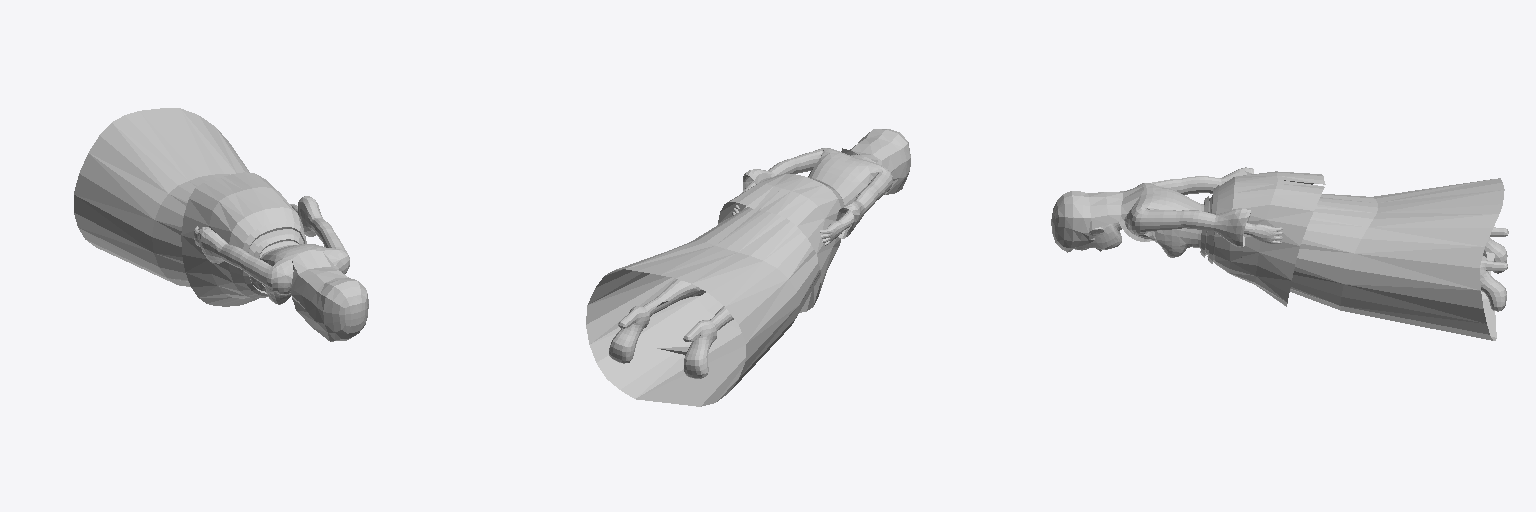
Rendered from ines_posed.obj.
3 views of the same model, side by side, from view 1: azimuth 30°, elevation 25°; view 2: azimuth 150°, elevation 25°; view 3: azimuth 270°, elevation 25° (orthographic).
Visible parts, largest first — view 1: Box001, Object001; view 2: Box001, Object001; view 3: Box001, Object001.
Boxes of the visible parts, box(x1,y1,x2,y2) form: Box001: box(74, 108, 349, 306); Object001: box(291, 250, 368, 341); Box001: box(586, 148, 892, 406); Object001: box(841, 129, 910, 194); Box001: box(1075, 167, 1508, 340); Object001: box(1051, 185, 1143, 252).
Size of the model in its own units: 357 by 297 by 880.